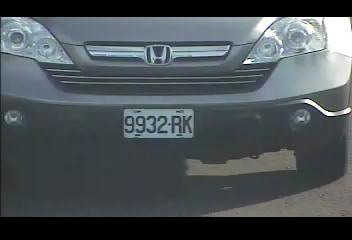plate: (122, 109, 195, 139)
